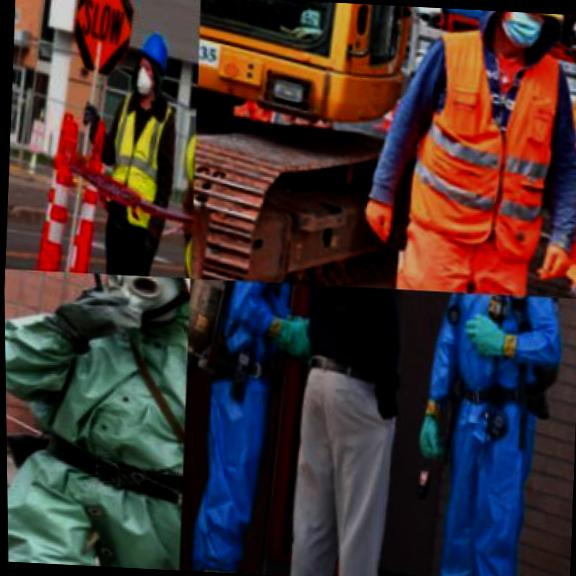safety_vest: (4, 271, 192, 570), (387, 22, 576, 271), (398, 290, 576, 432), (184, 278, 322, 408), (79, 81, 185, 238), (144, 94, 198, 276), (539, 64, 576, 223)
